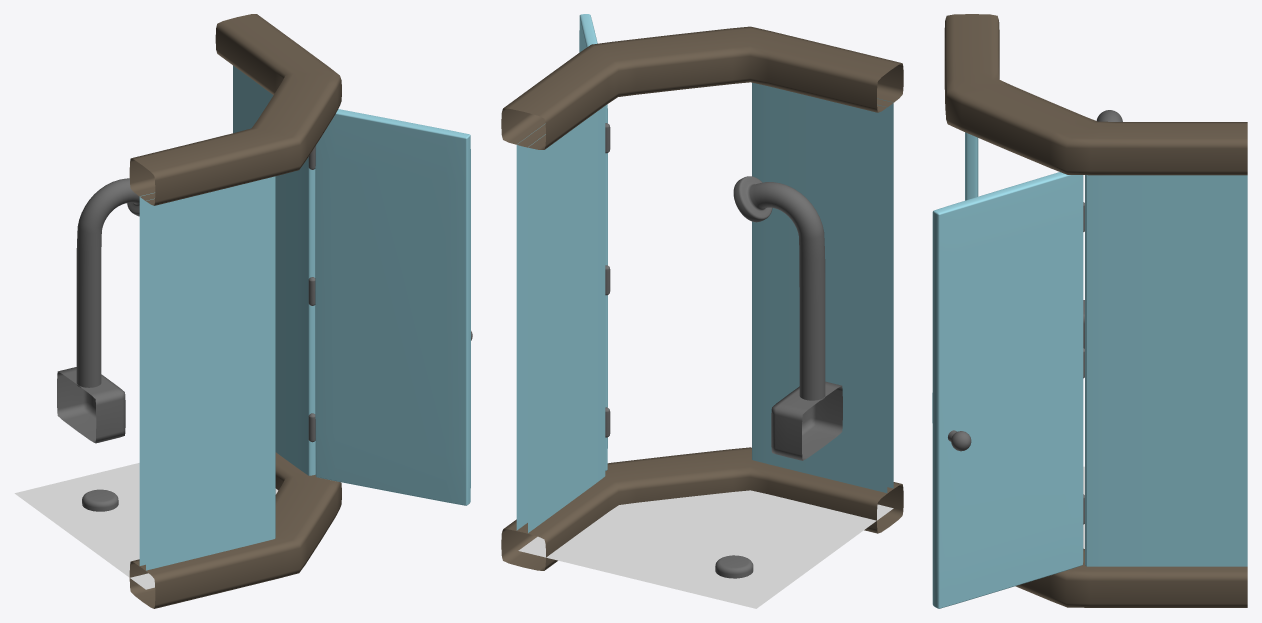
File: shower01.fbx
3 views of the same model, side by side, from view 1: azimuth 30°, elevation 25°; view 2: azimuth 150°, elevation 25°; view 3: azimuth 270°, elevation 25° (orthographic). The views are drawn at different scales.
Parts seen in each view (by area): view 1: shower01; view 2: shower01; view 3: shower01.
Part boxes in pixels (bbox=[...]): shower01: bbox=[14, 14, 472, 608]; shower01: bbox=[501, 14, 903, 608]; shower01: bbox=[932, 14, 1247, 608].
Bounding box in the file's own units: 306 × 394 × 240.
